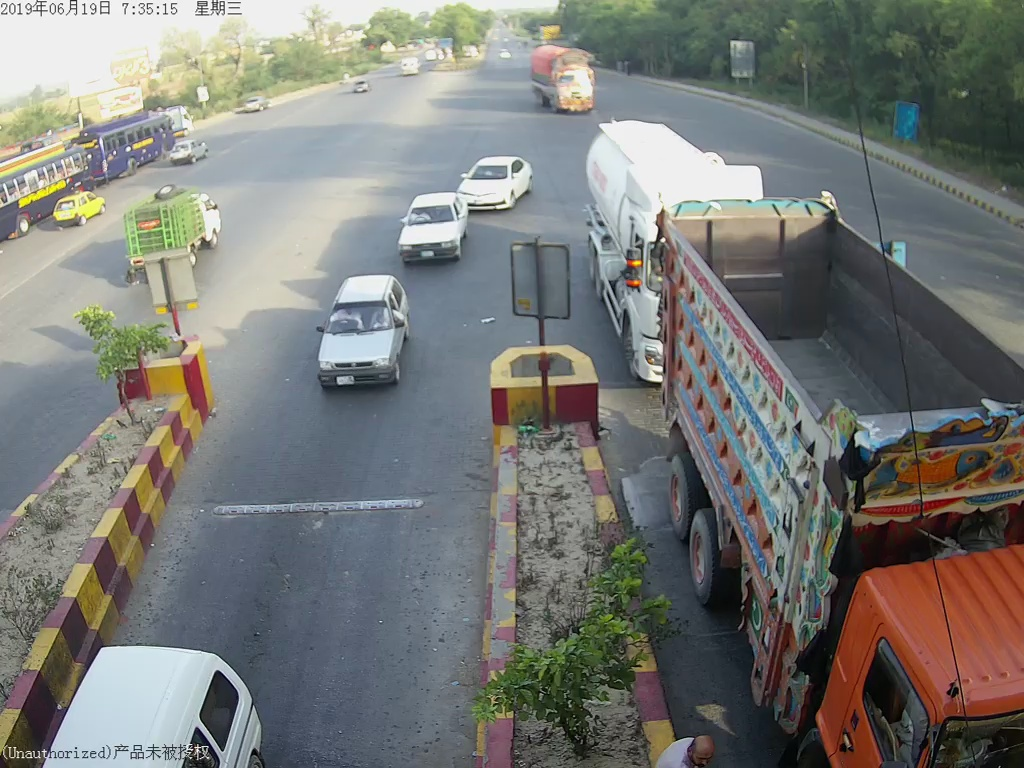Cat-1: (307, 271, 421, 403), (387, 186, 463, 264), (459, 152, 534, 213)
